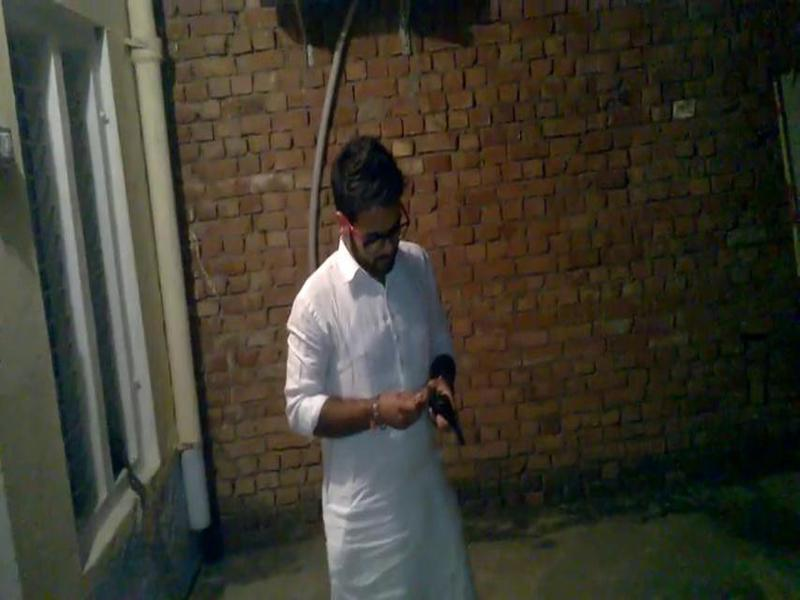Revolver: (414, 379, 487, 466)
